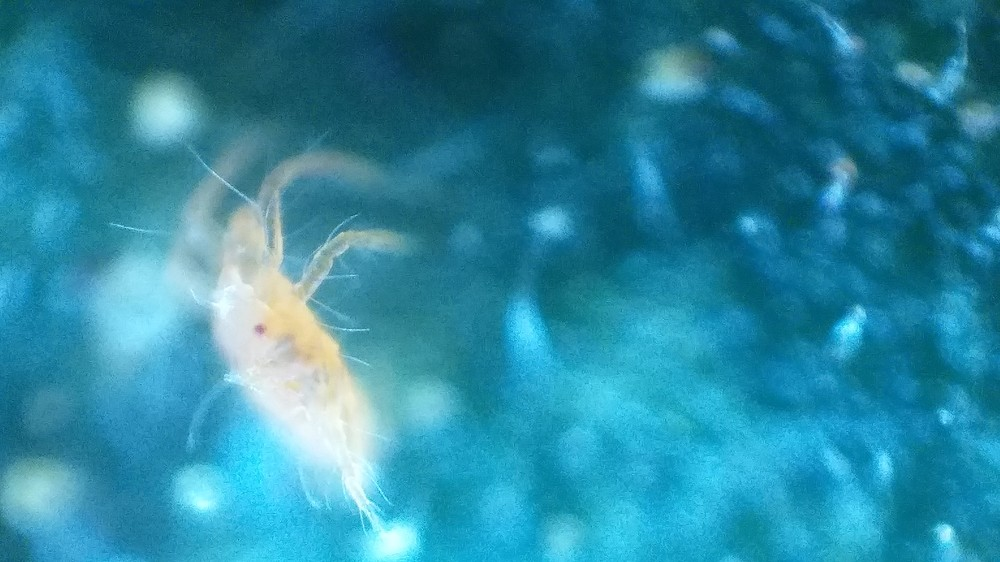Aracnido Rojo: (151, 134, 467, 529)
